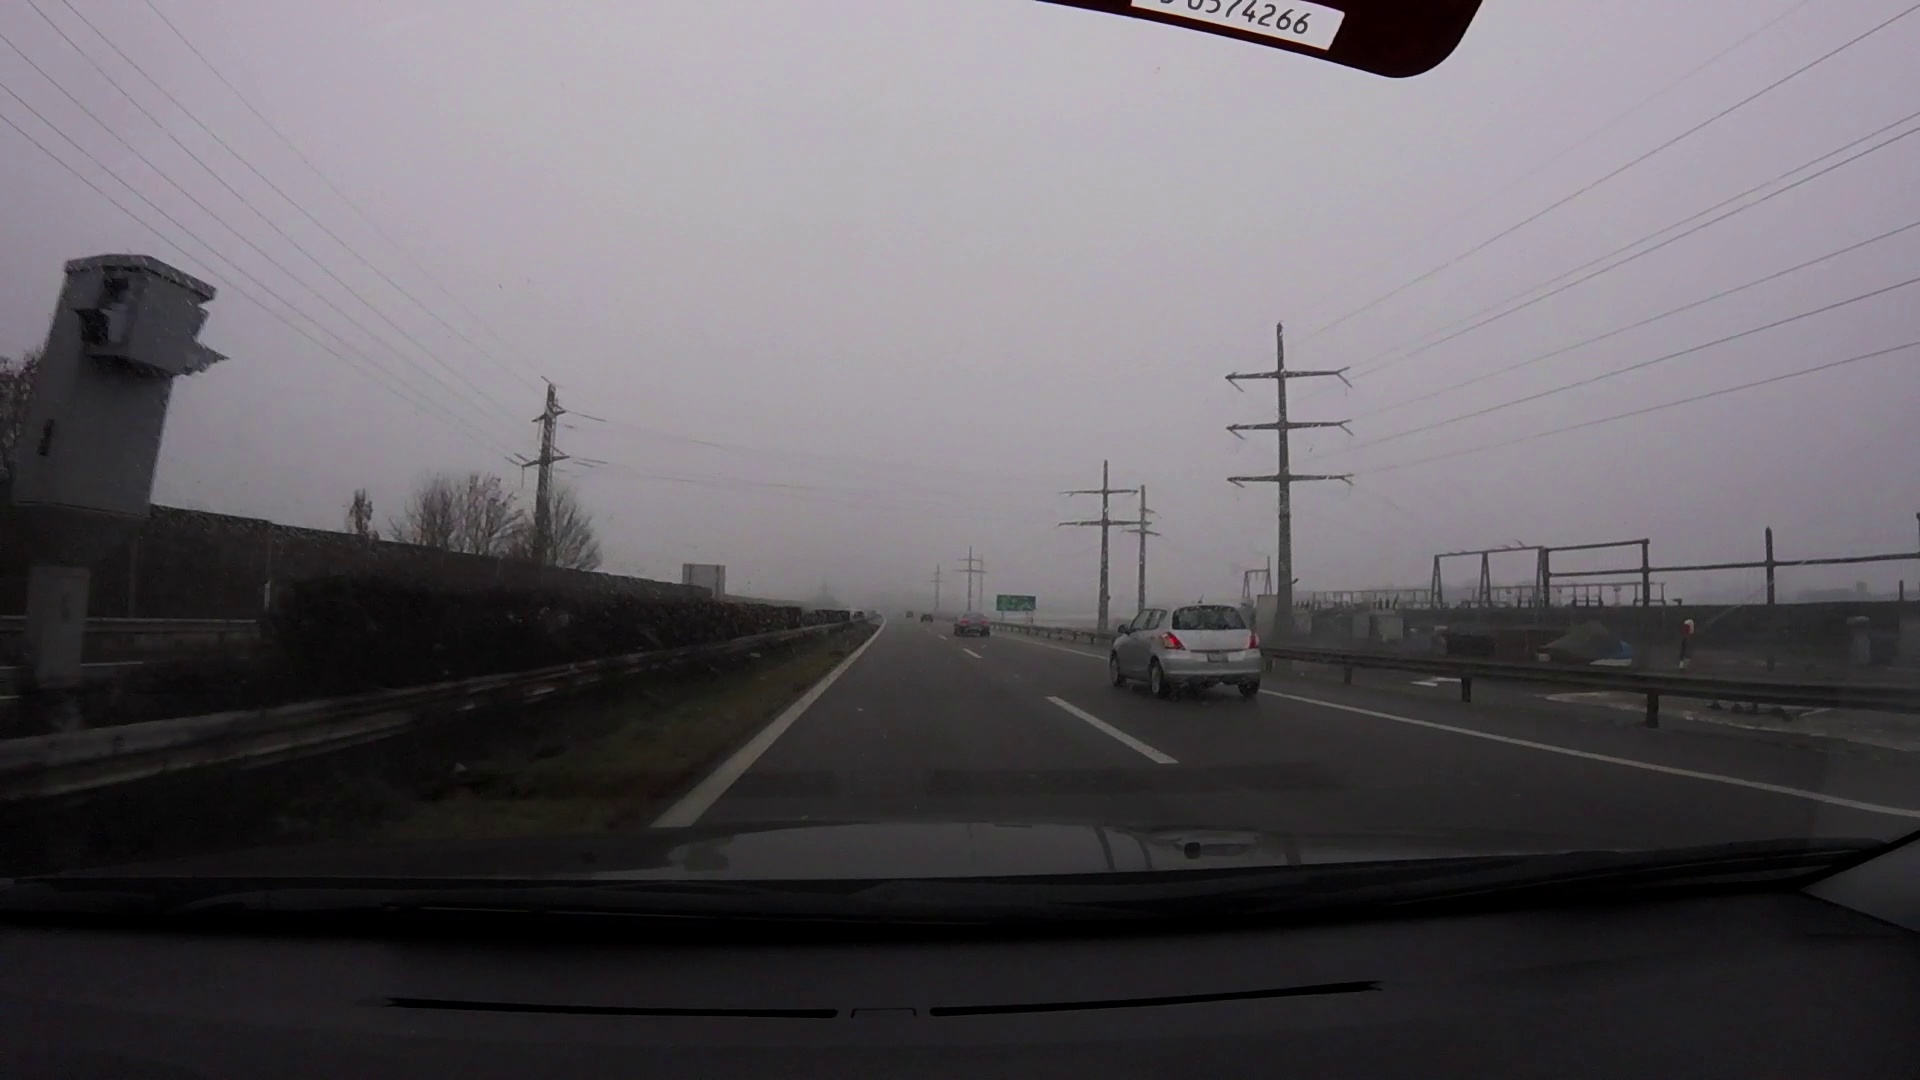radar: (1, 251, 237, 636)
